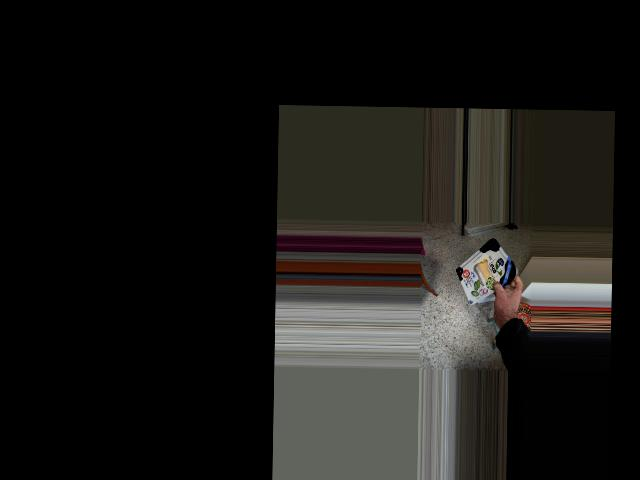cheese: (449, 239, 520, 300)
